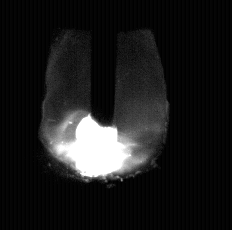arame: (91, 0, 115, 127)
poca: (38, 0, 168, 230)
